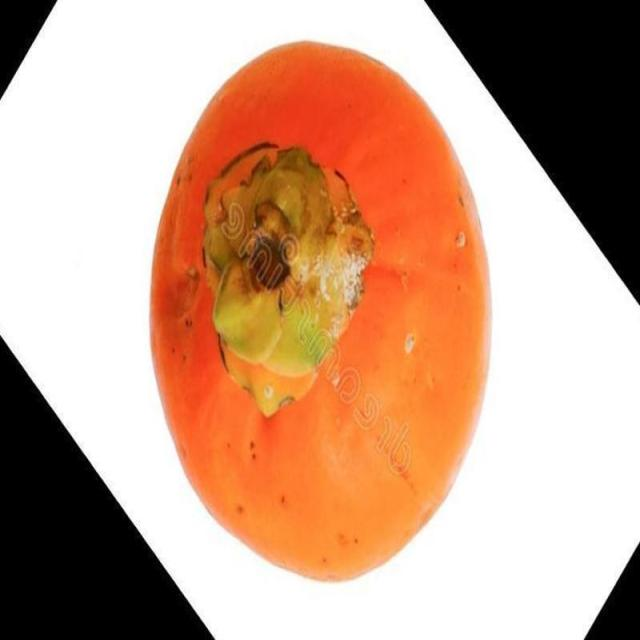good: (147, 40, 495, 586)
